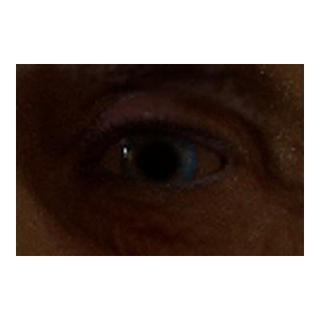pupil: (140, 143, 177, 179)
